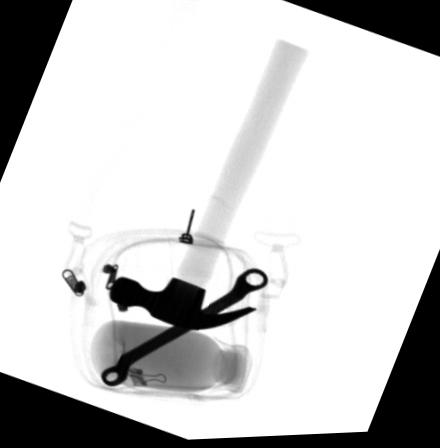Hammer: (106, 40, 310, 332)
Wrench: (103, 269, 269, 388)
